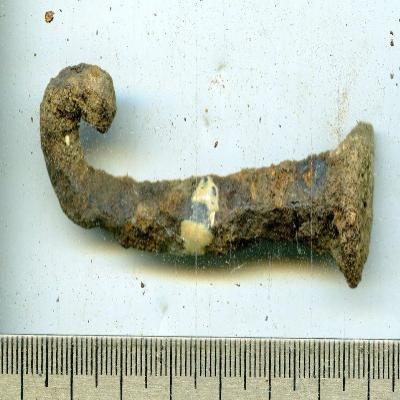archeology: (38, 63, 376, 290)
